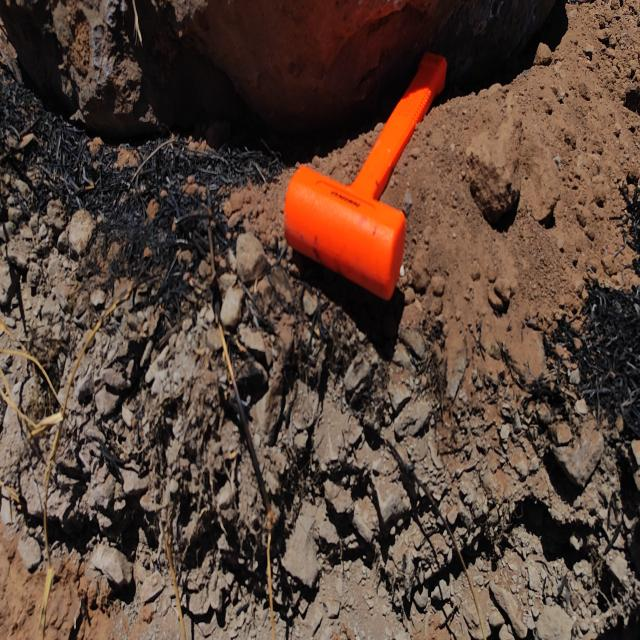Orange_hammer: (282, 50, 448, 302)
